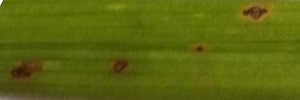RiceBlast: (7, 55, 51, 86), (239, 1, 274, 32), (110, 53, 134, 80), (192, 38, 210, 61)
